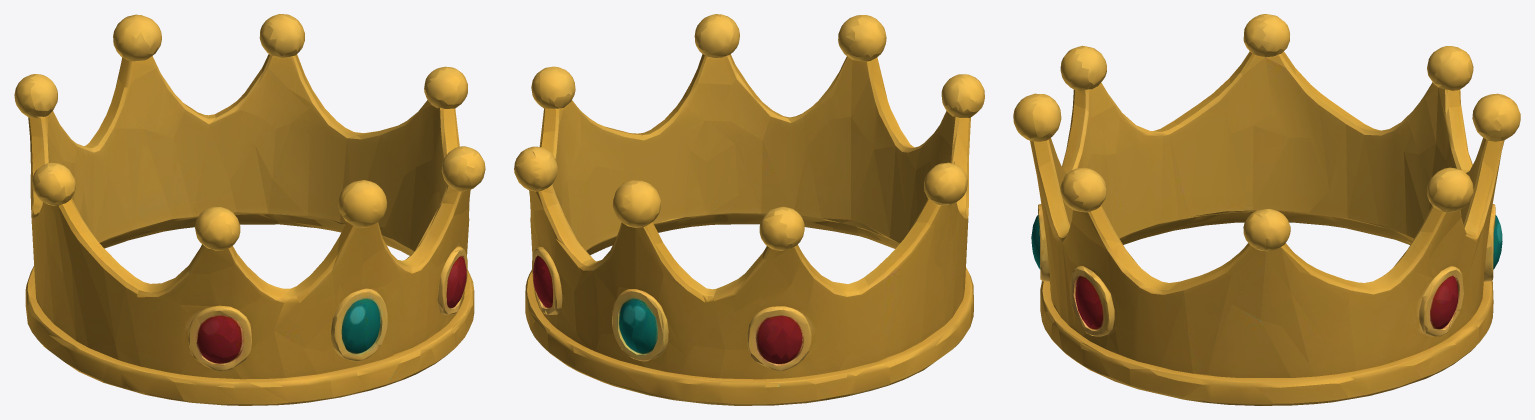
Rendered from crown.glb.
The picture shows the model from 3 angles, left to right: view 1: azimuth 30°, elevation 25°; view 2: azimuth 150°, elevation 25°; view 3: azimuth 270°, elevation 25°; orthographic projection.
Size of the model in its own units: 1.89 by 0.8914 by 1.9.
Materials: 1 (1 with a texture image).
